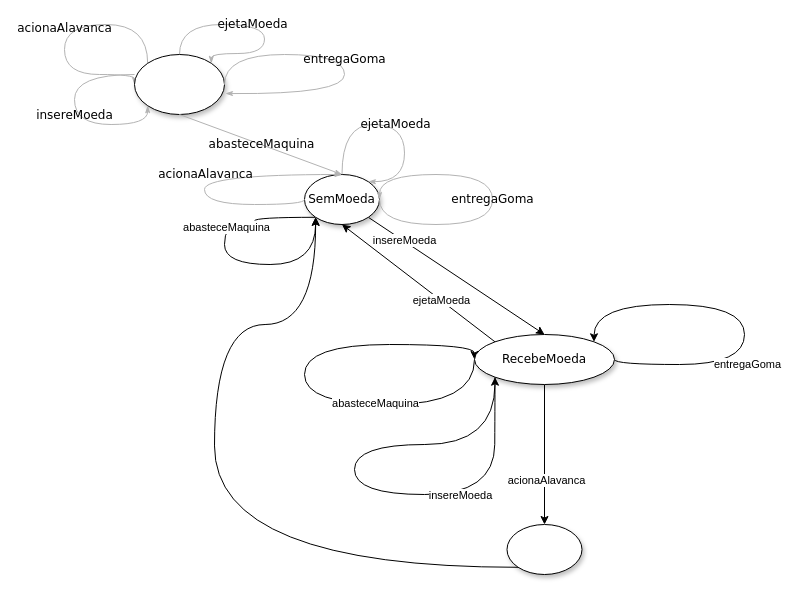
This 798x599 diagram has some shape labels left out. The centre of each missing label's shape, as x and y in pixels:
"GomaVendida" belongs at point (545, 551).
"SemGoma" belongs at point (180, 86).
